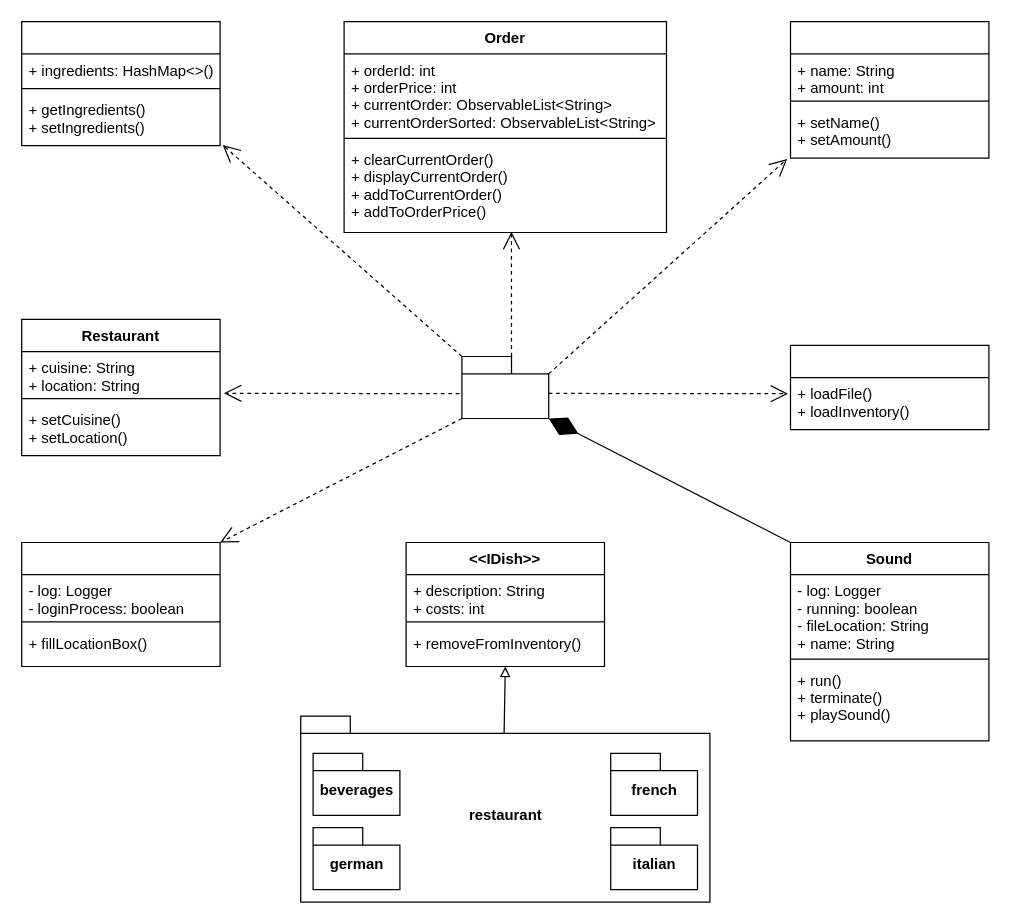
Some shapes in this 1011 by 924 pixel diagram are drawn without their labels. Here are the shapes that lost their labels. From the top down, the box of each, then its label:
(20, 20, 220, 146): Inventory
(789, 20, 989, 158): Ingredient
(461, 355, 549, 418): GUI
(789, 344, 989, 430): FileHandler
(20, 541, 220, 666): Navigation
